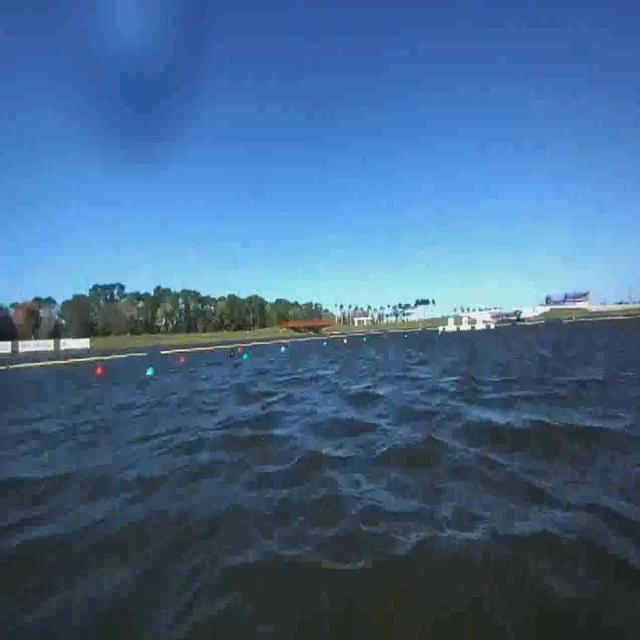green-buoy: (146, 365, 156, 378), (241, 352, 248, 362)
red-buoy: (97, 365, 105, 376)
